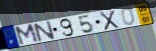0: (120, 7, 137, 27)
5: (77, 13, 95, 34)
9: (59, 18, 76, 37)
M: (14, 23, 41, 47)
N: (32, 20, 57, 44)
X: (99, 9, 121, 31)
